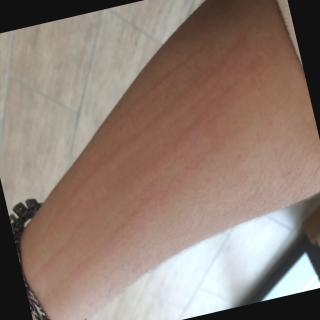urticaria: (45, 214, 141, 260), (227, 42, 261, 98), (186, 92, 218, 146), (152, 58, 200, 88), (163, 178, 185, 197), (138, 123, 154, 144), (87, 174, 110, 187), (64, 196, 83, 208), (109, 236, 118, 245)
